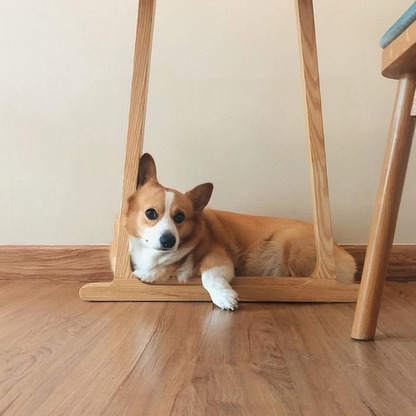Corgi: (112, 145, 377, 319)
